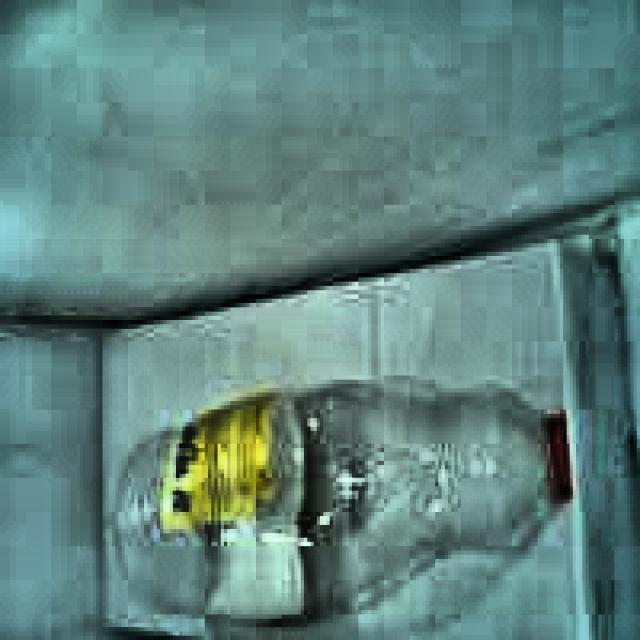Bottles: (59, 330, 640, 640)
